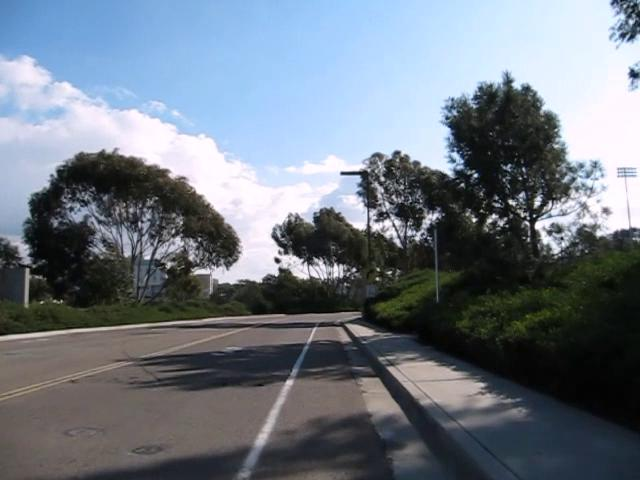speedLimitUrdbl: (364, 283, 377, 299)
